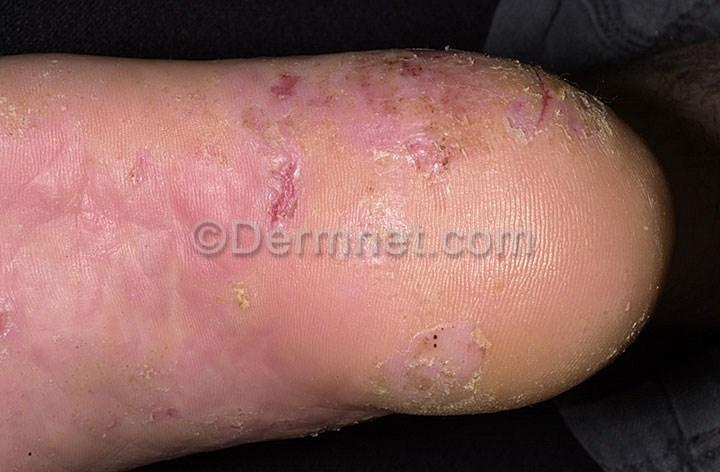Eczema: (183, 65, 447, 226), (0, 151, 184, 363), (177, 263, 369, 427), (453, 76, 644, 227), (369, 265, 554, 417), (0, 55, 182, 147), (6, 378, 194, 463), (552, 238, 646, 374)
